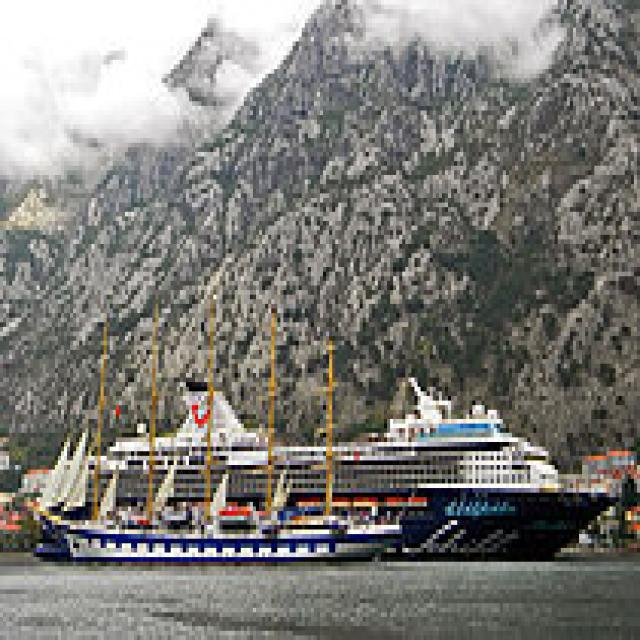Ship: (99, 397, 626, 563)
